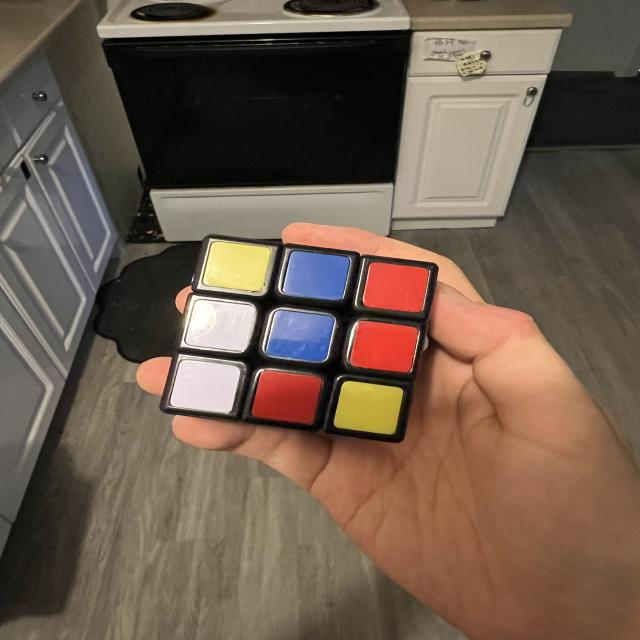blue: (283, 249, 351, 302)
center: (263, 308, 336, 365)
red: (250, 367, 324, 428), (346, 318, 420, 375), (361, 260, 430, 315)
white: (169, 358, 241, 416), (185, 296, 258, 353)
yellow: (333, 378, 404, 437), (201, 239, 272, 293)
